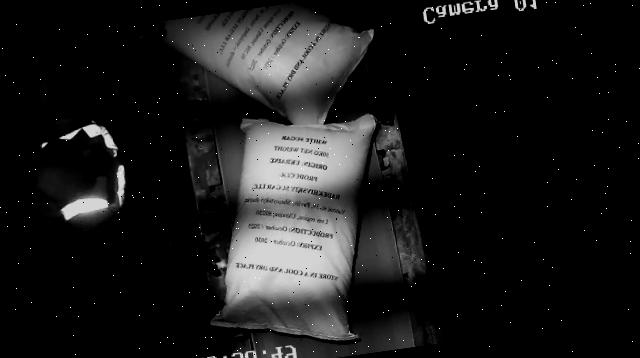bag: (184, 100, 405, 358), (145, 0, 386, 146)
